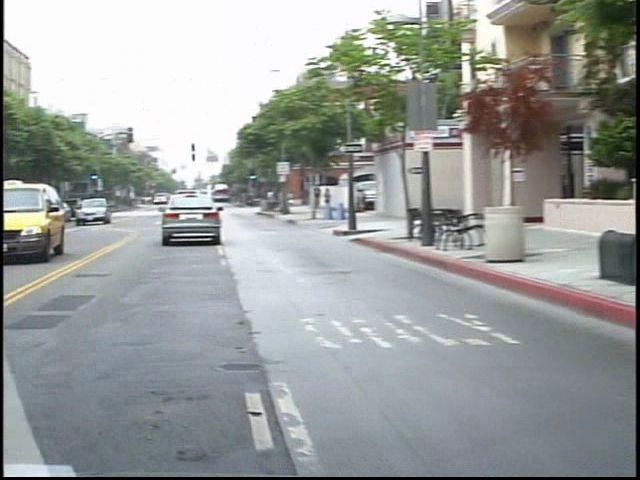person: (310, 187, 324, 221)
